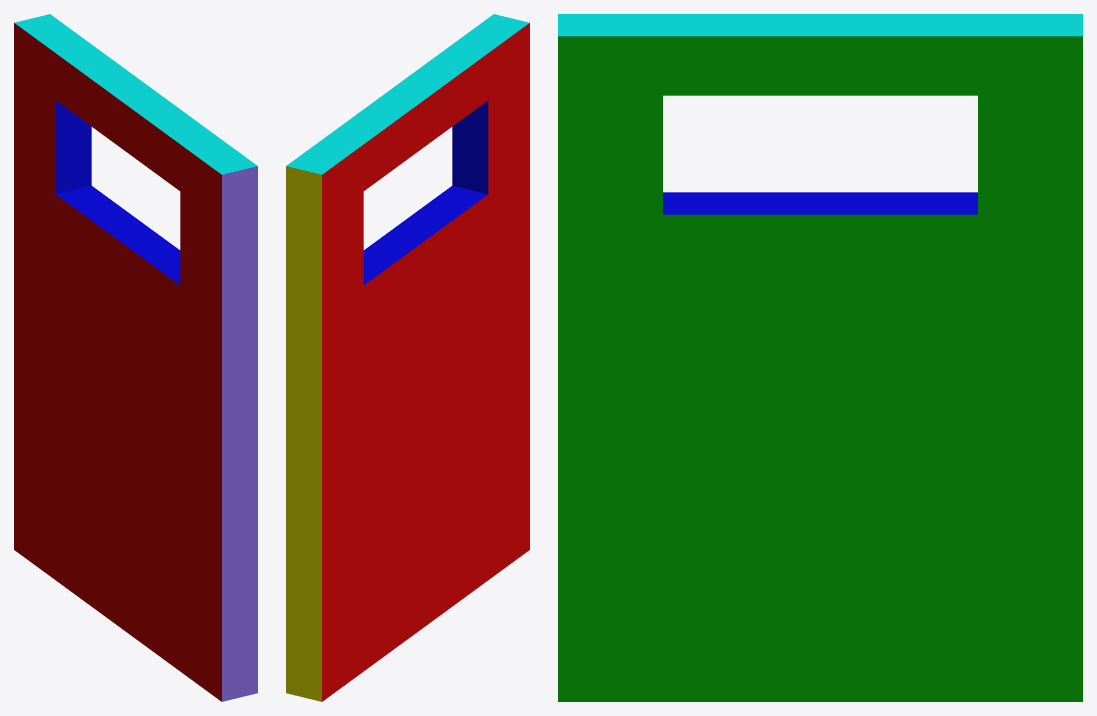
The model's file is Mesh_Wall_07.FBX.
3 views of the same model, side by side, from view 1: azimuth 30°, elevation 25°; view 2: azimuth 150°, elevation 25°; view 3: azimuth 270°, elevation 25° (orthographic). The views are drawn at different scales.
Parts seen in each view (by area): view 1: Mesh_Wall_07; view 2: Mesh_Wall_07; view 3: Mesh_Wall_07.
Boxes of the visible parts, x1=… form: Mesh_Wall_07: x1=14, y1=14, x2=257, y2=701; Mesh_Wall_07: x1=286, y1=14, x2=529, y2=701; Mesh_Wall_07: x1=558, y1=14, x2=1082, y2=701.
Size of the model in its own units: 20 by 280 by 200.
